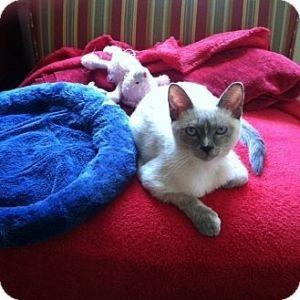siamese: (162, 76, 251, 169)
